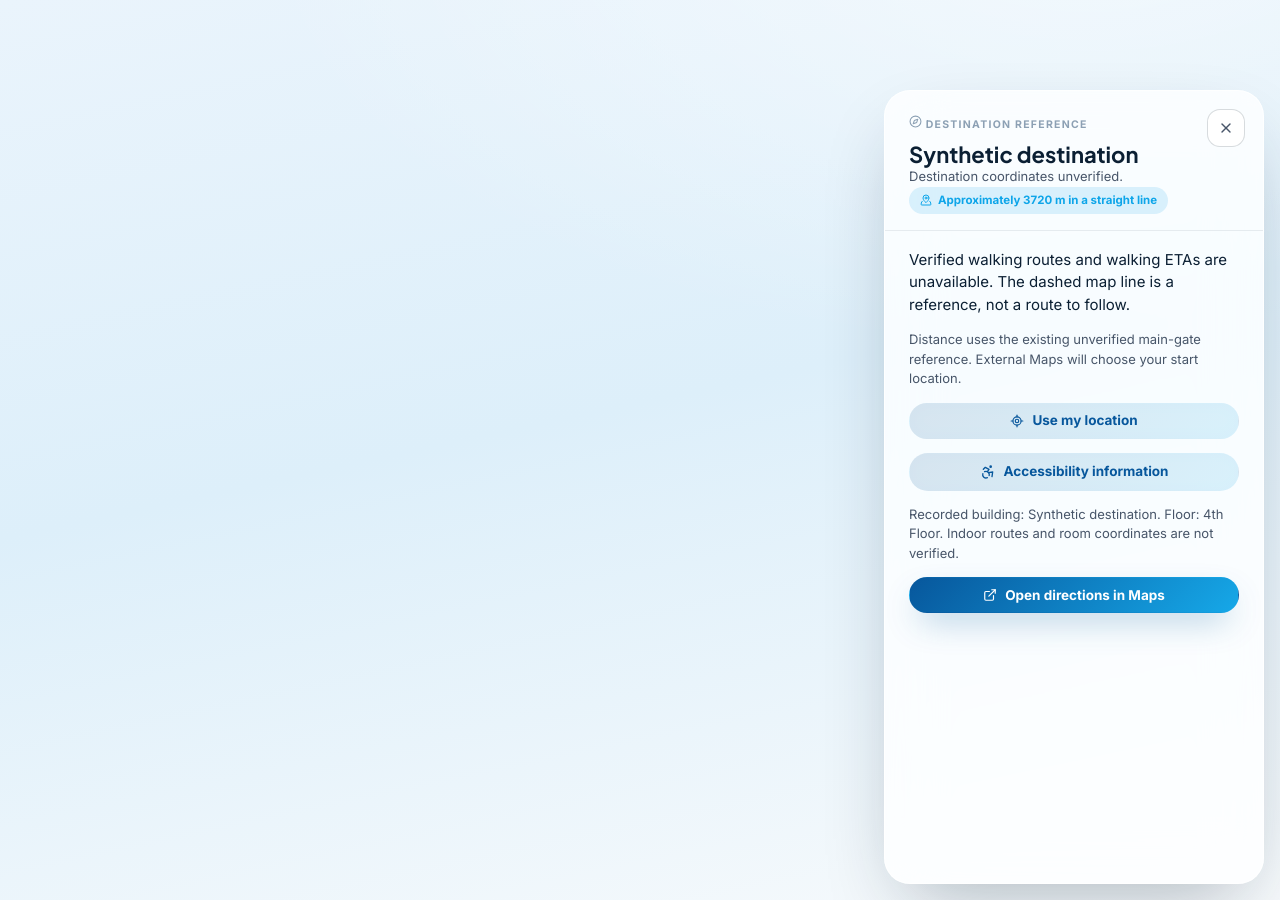
Scenario: directions identify estimates, unknown accessibility and missing official coordinates
Expected: the text "Destination coordinates unverified." is shown, [909,168,1123,184]
Expected: the text "not a route to follow" is shown, [909,250,1227,314]
Click the button "Accessibility information". click: (1074, 472)
box: [909,453,1239,491]
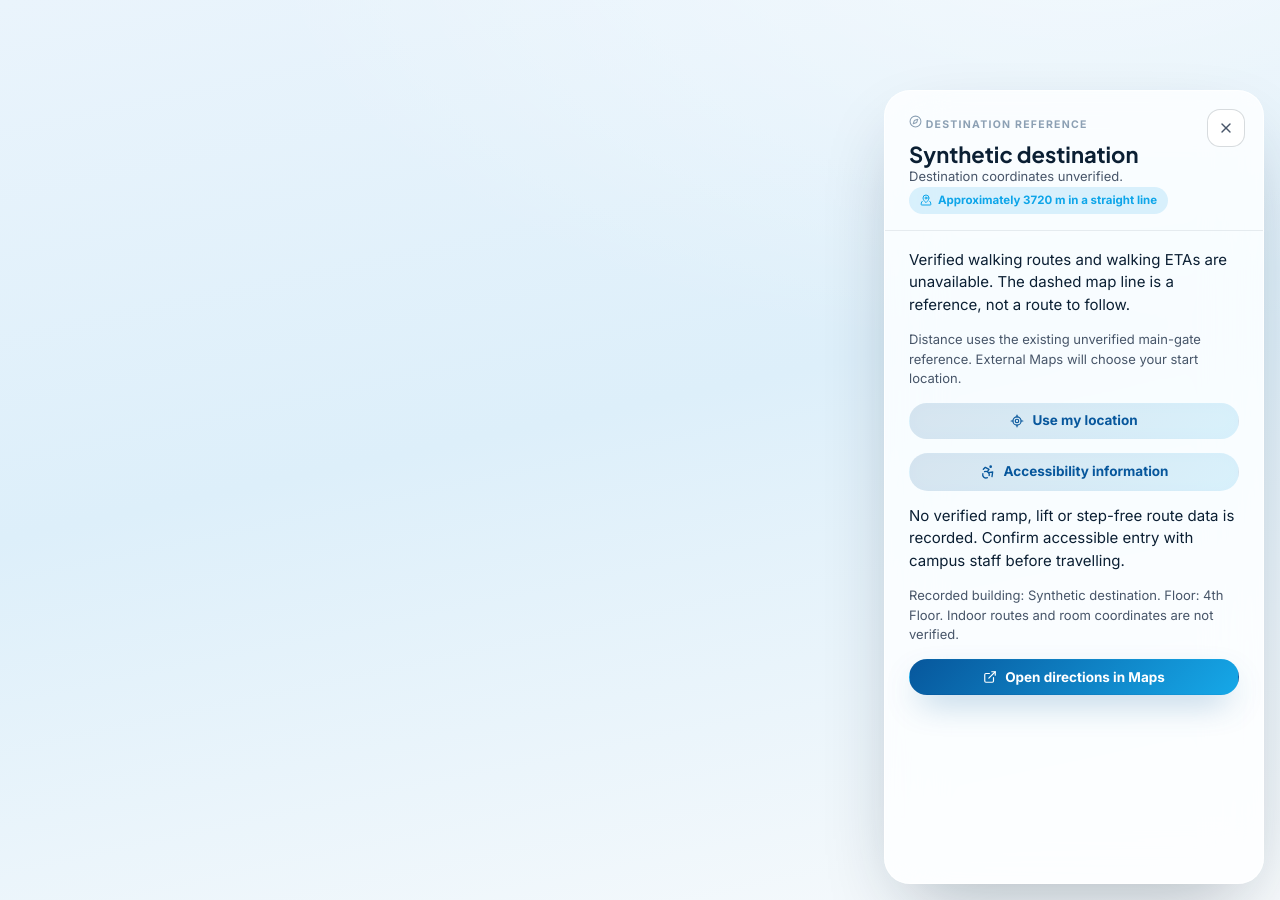
Expected: the text "No verified ramp, lift" is shown, [909,506,1234,570]
